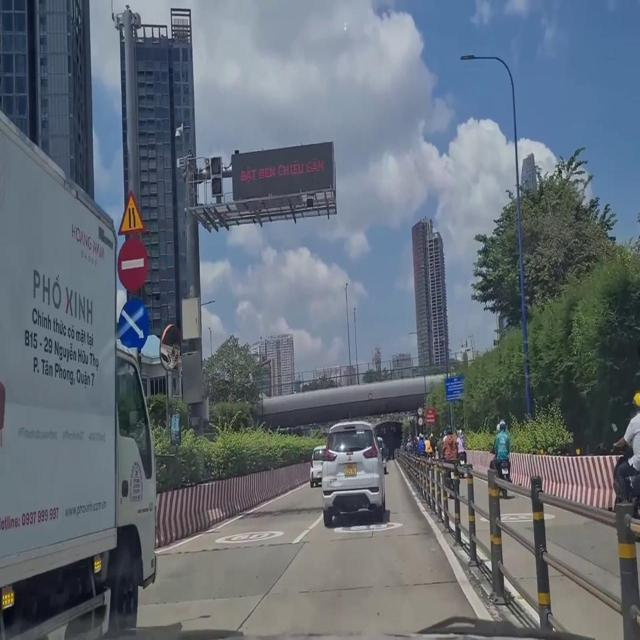Cấm đi ngược chiều: (112, 236, 151, 294)
Hướng phải đi vòng sang phải: (112, 298, 152, 351)
Khác: (443, 370, 467, 406)
Đường hẹp: (110, 190, 146, 233)
